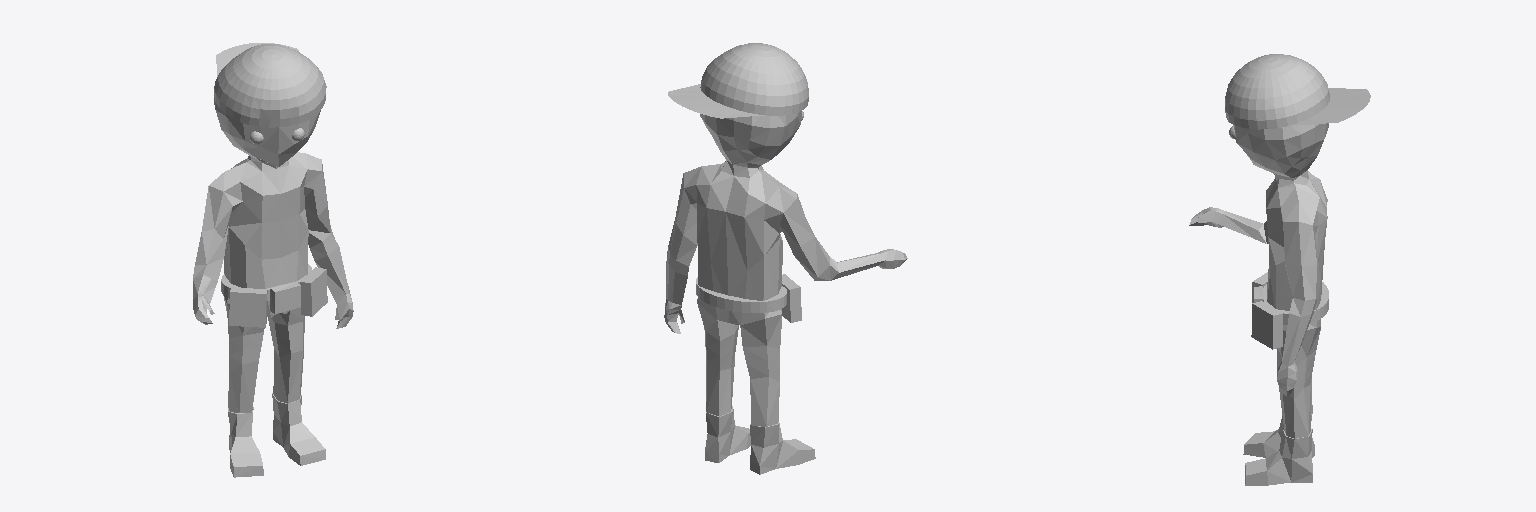
The model's file is Main_Character_Paint_5.obj.
3 renders of one model, left to right at view 1: azimuth 30°, elevation 25°; view 2: azimuth 150°, elevation 25°; view 3: azimuth 270°, elevation 25°, orthographic.
Parts seen in each view (by area): view 1: Main_Character_Test.003_Main_Character_Test.004; view 2: Main_Character_Test.003_Main_Character_Test.004; view 3: Main_Character_Test.003_Main_Character_Test.004.
Boxes of the visible parts, <box> form: Main_Character_Test.003_Main_Character_Test.004: <box>193,43,353,477</box>; Main_Character_Test.003_Main_Character_Test.004: <box>664,43,907,474</box>; Main_Character_Test.003_Main_Character_Test.004: <box>1189,54,1370,485</box>.
Bounding box in the file's own units: 2.02 × 3.96 × 1.6.